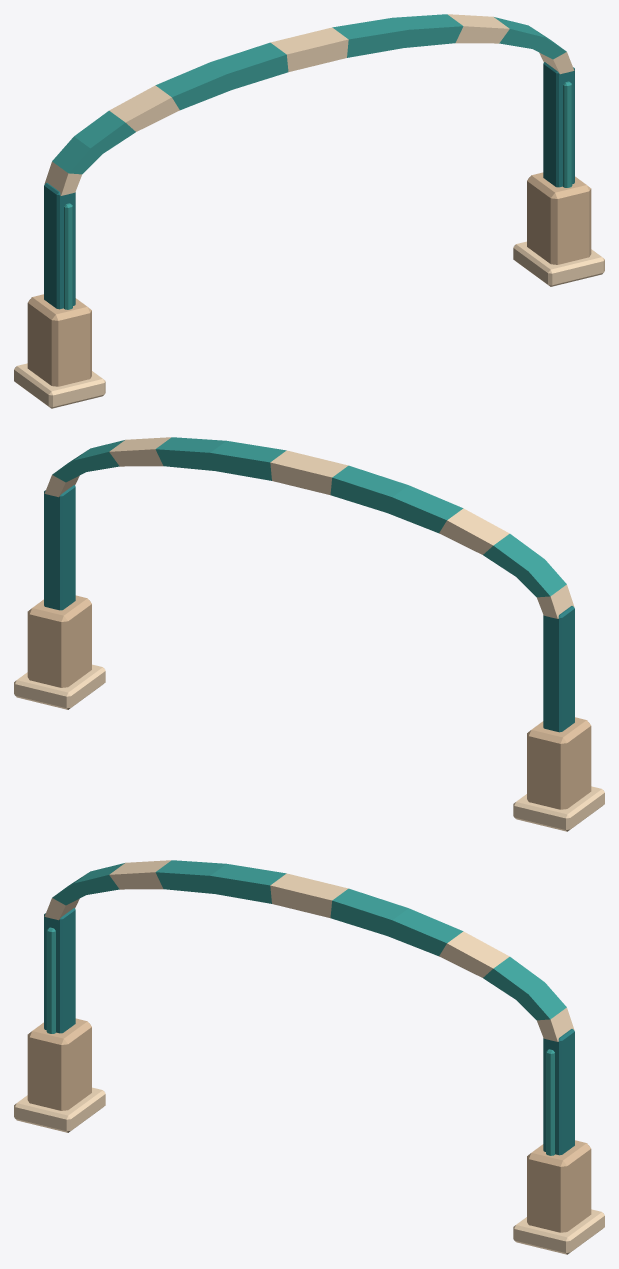
The model's file is WindGate.fbx.
The picture shows the model from 3 angles, top to bottom: view 1: azimuth 30°, elevation 25°; view 2: azimuth 150°, elevation 25°; view 3: azimuth 330°, elevation 25°; orthographic projection.
Parts seen in each view (by area): view 1: WindGate; view 2: WindGate; view 3: WindGate.
Part boxes in pixels (bbox=[...]): WindGate: bbox=[14, 14, 604, 408]; WindGate: bbox=[14, 437, 604, 831]; WindGate: bbox=[14, 860, 604, 1254].
Size of the model in its own units: 7.02 by 3.47 by 0.83.
